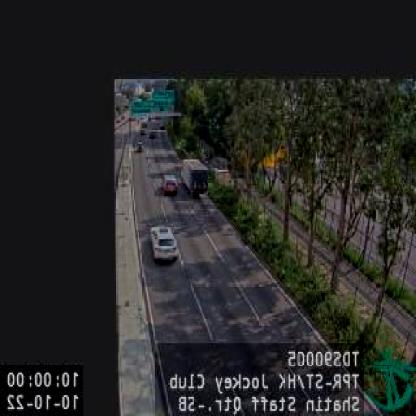Car: (149, 225, 176, 262), (162, 173, 176, 194), (134, 142, 144, 154)
Truck: (183, 162, 209, 196)
